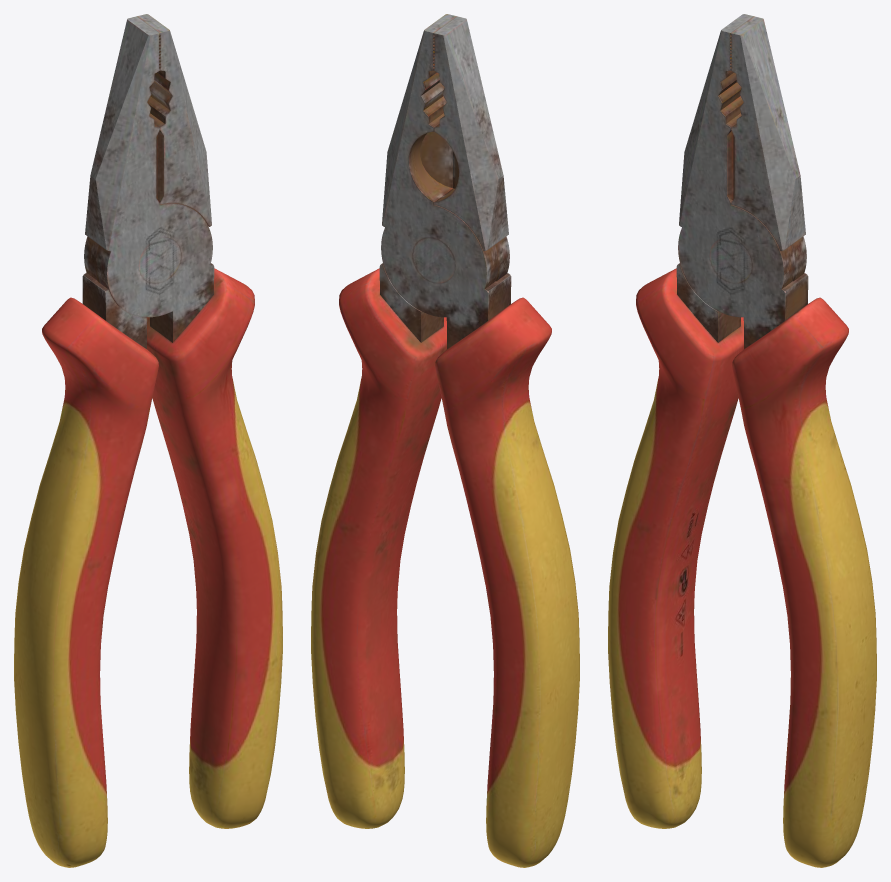
File: pliers.glb
The picture shows the model from 3 angles, left to right: view 1: azimuth 30°, elevation 25°; view 2: azimuth 150°, elevation 25°; view 3: azimuth 330°, elevation 25°; orthographic projection.
Parts seen in each view (by area): view 1: pliers_b; view 2: pliers_b; view 3: pliers_b.
Part boxes in pixels (bbox=[...]): pliers_b: bbox=[14, 14, 282, 867]; pliers_b: bbox=[311, 14, 579, 867]; pliers_b: bbox=[608, 14, 876, 867].
Bounding box in the file's own units: 0.0553 × 0.1798 × 0.018.
Materials: 1 (1 with a texture image).
